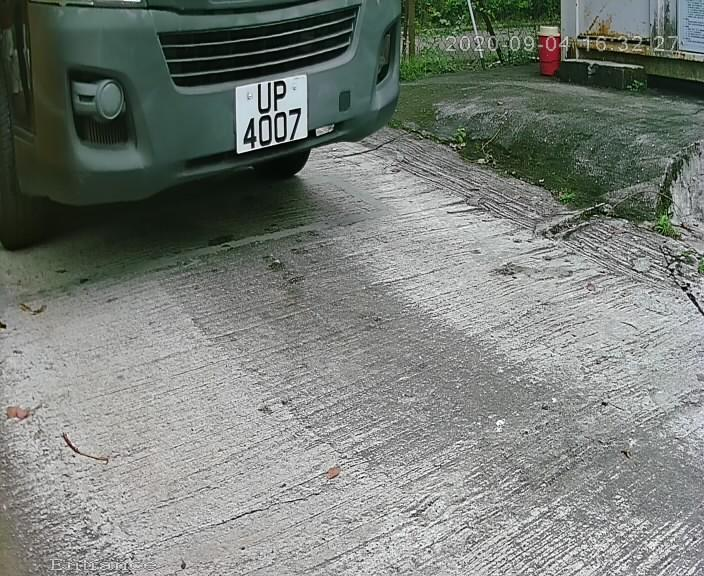Car: (13, 8, 422, 265)
License Plate: (230, 65, 318, 160)
